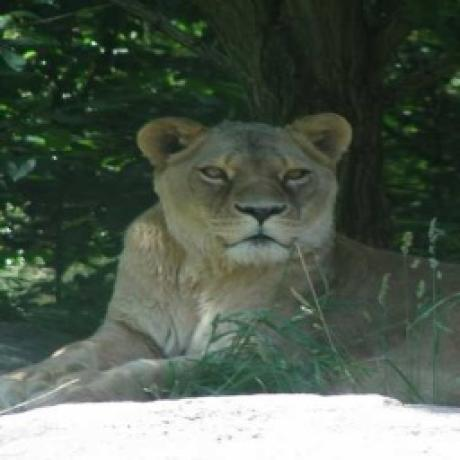Lion: (0, 106, 460, 408)
